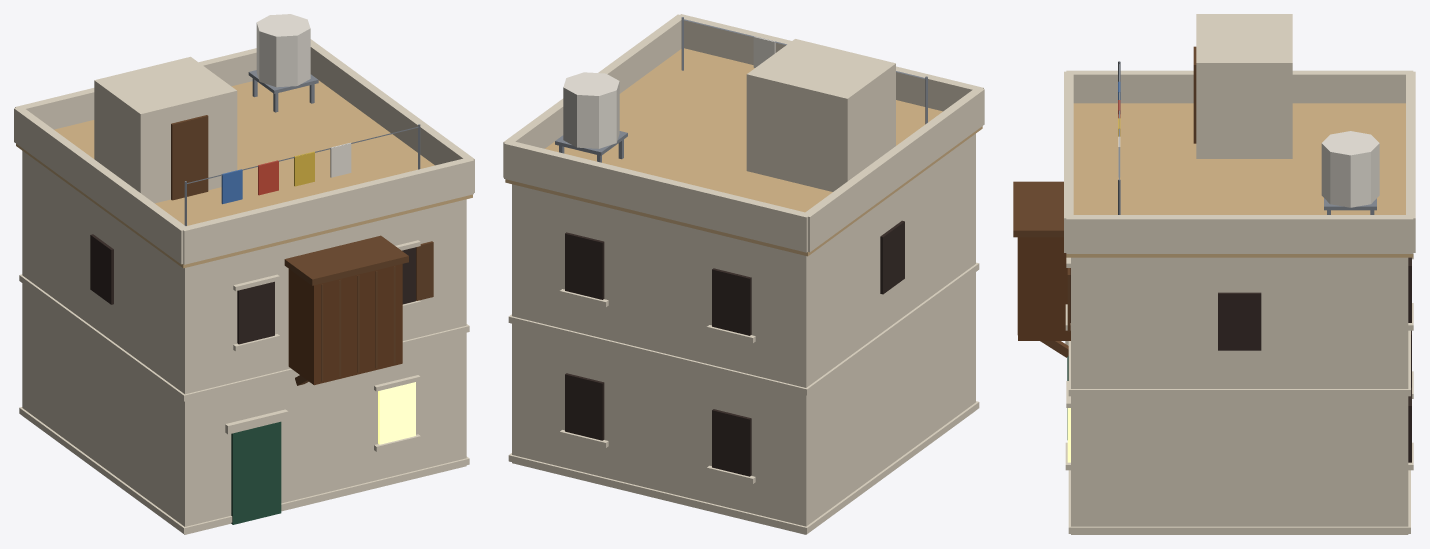
The model's file is hus_kairo_3.glb.
The picture shows the model from 3 angles, left to right: view 1: azimuth 30°, elevation 25°; view 2: azimuth 150°, elevation 25°; view 3: azimuth 270°, elevation 25°; orthographic projection. The views are drawn at different scales.
Parts seen in each view (by area): view 1: hus_kairo_3; view 2: hus_kairo_3; view 3: hus_kairo_3.
Part boxes in pixels (bbox=[...]): hus_kairo_3: bbox=[14, 14, 474, 534]; hus_kairo_3: bbox=[503, 14, 984, 534]; hus_kairo_3: bbox=[1013, 14, 1415, 534].
Size of the model in its own units: 7.3 by 8.85 by 8.35.
